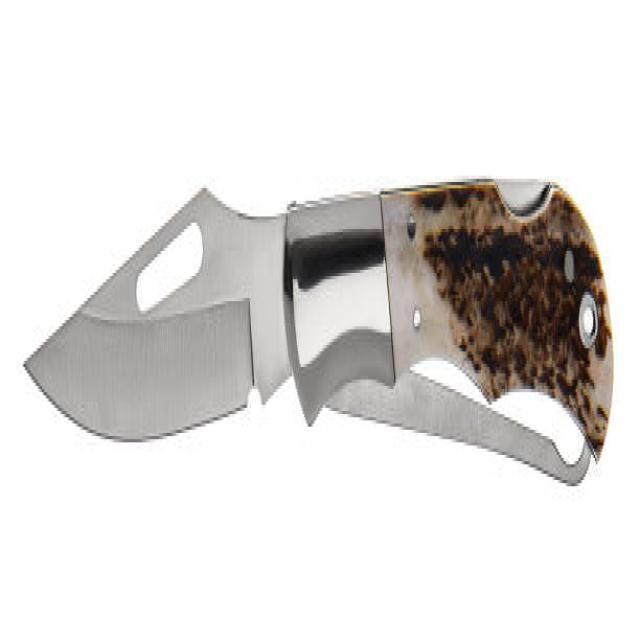knife: (20, 155, 618, 529)
